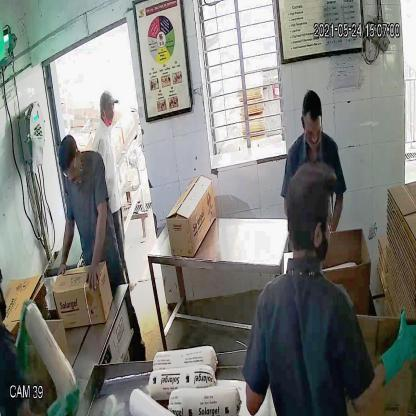goggles: (60, 156, 80, 184)
no_goggles: (99, 100, 116, 118)
